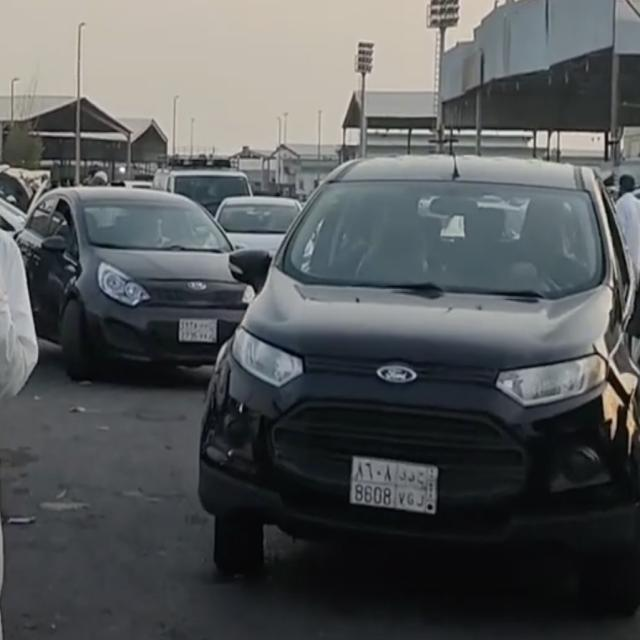license_plate: (343, 453, 444, 517), (176, 312, 221, 347)
